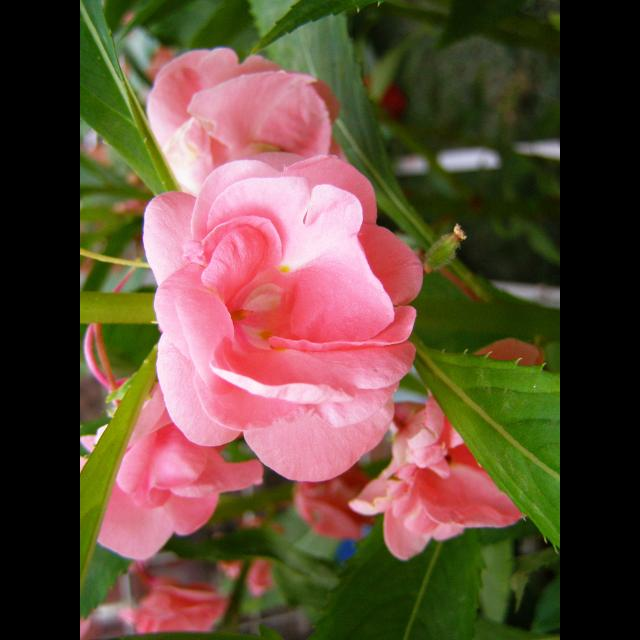Flower: (124, 109, 428, 505), (338, 334, 548, 560), (113, 572, 234, 630)
